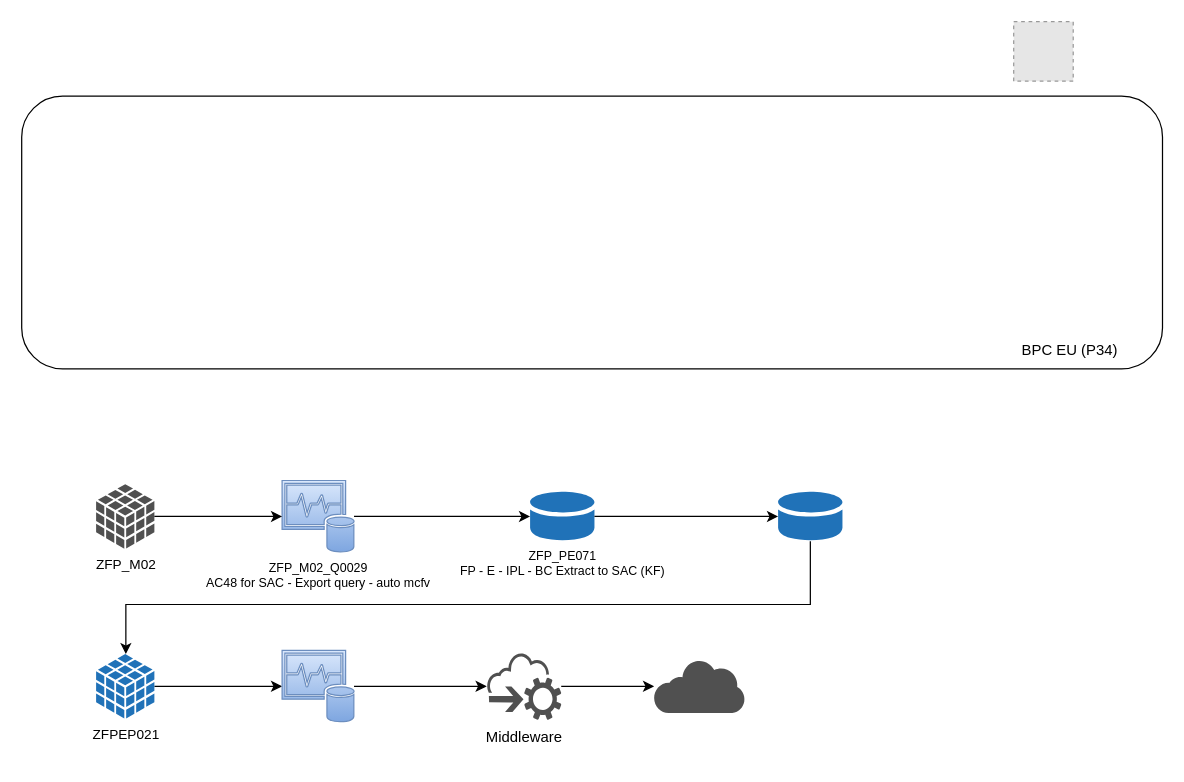
The diagram is 1184 pixels wide and 782 high, and some of its shapes have lost their labels. Grey dashed boxes stand in for pictures. Each missing label, with the box of its shape:
SAC GFC Main (Staging): (653, 659, 745, 712)
ZFP_PE072 IPL - E - BC Extract to SAC (Account): (777, 491, 842, 541)
ZFPEP021_CO_Q0001 IPL - E - P&L Extraction (PL_OPER): (281, 649, 354, 722)
